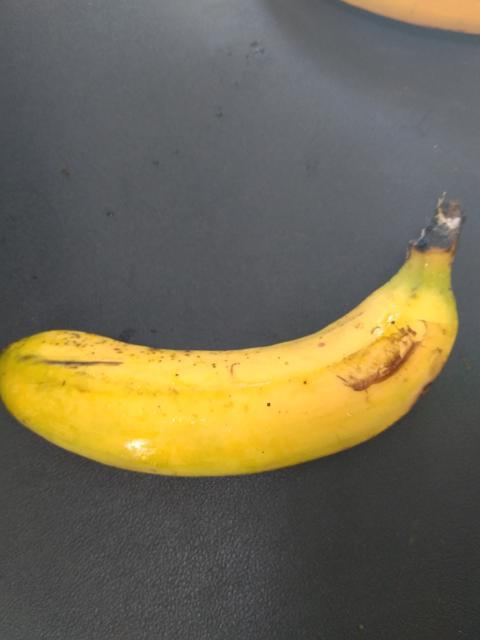ripe: (0, 254, 456, 494)
